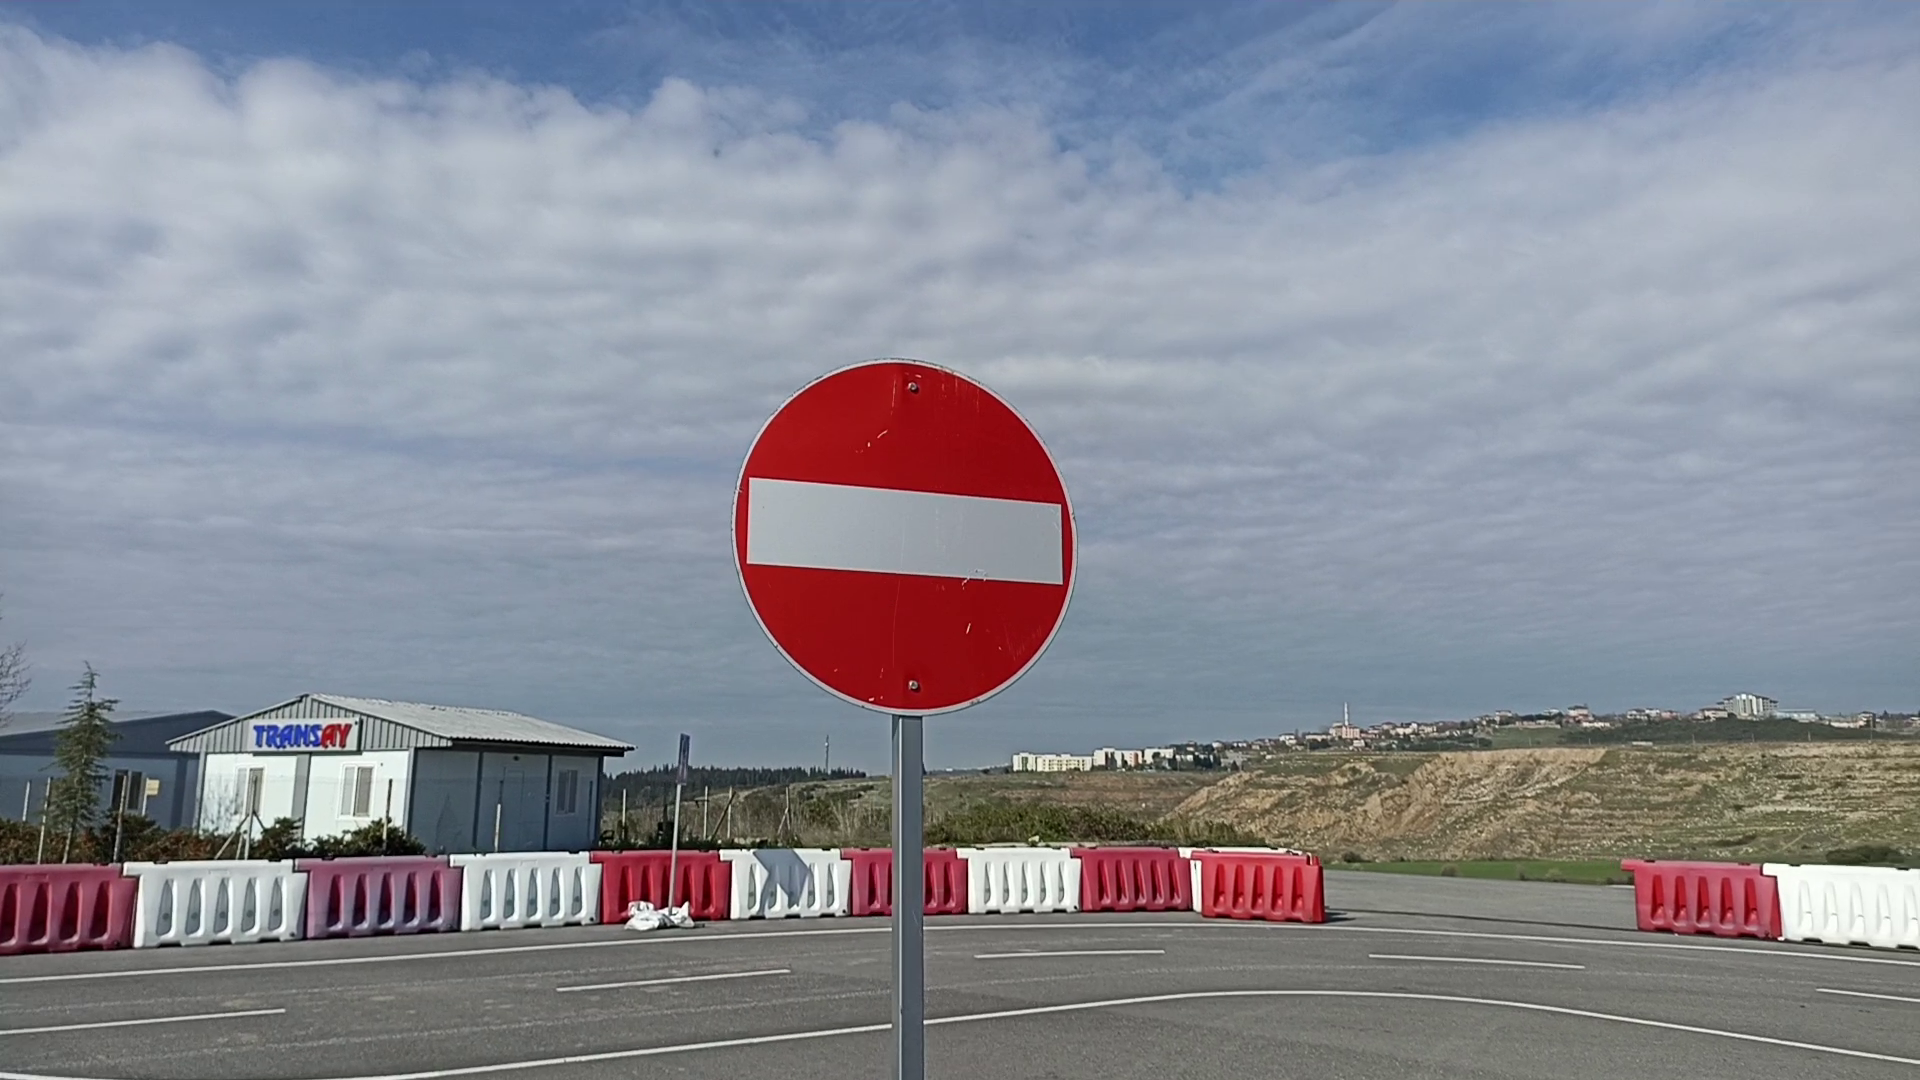noentryway: (725, 351, 1088, 721)
